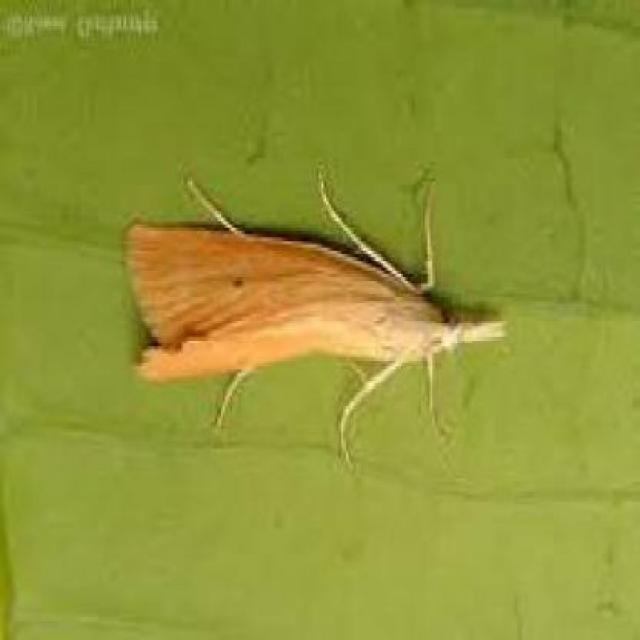stem-borer: (115, 172, 511, 474)
